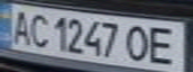1: (48, 14, 69, 52)
2: (63, 16, 84, 55)
4: (81, 18, 103, 56)
7: (100, 19, 124, 58)
A: (6, 7, 33, 46)
C: (24, 10, 51, 48)
E: (142, 24, 187, 67)
O: (121, 21, 154, 62)
